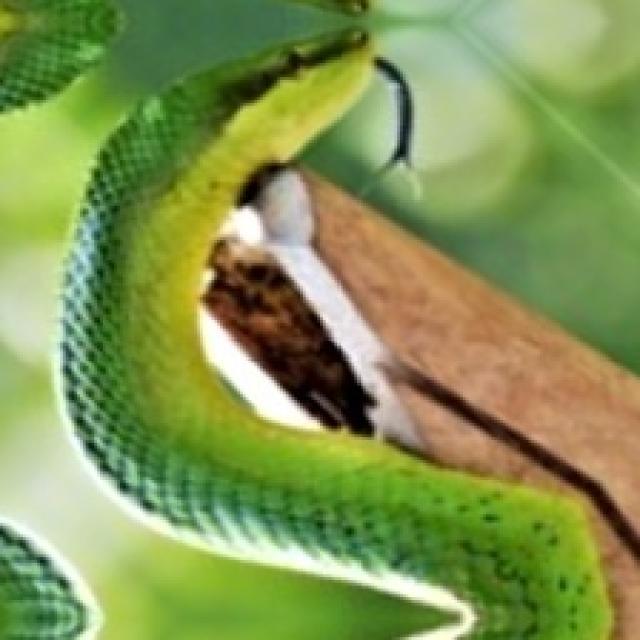red-tailed green ratsnake: (60, 31, 609, 637)
